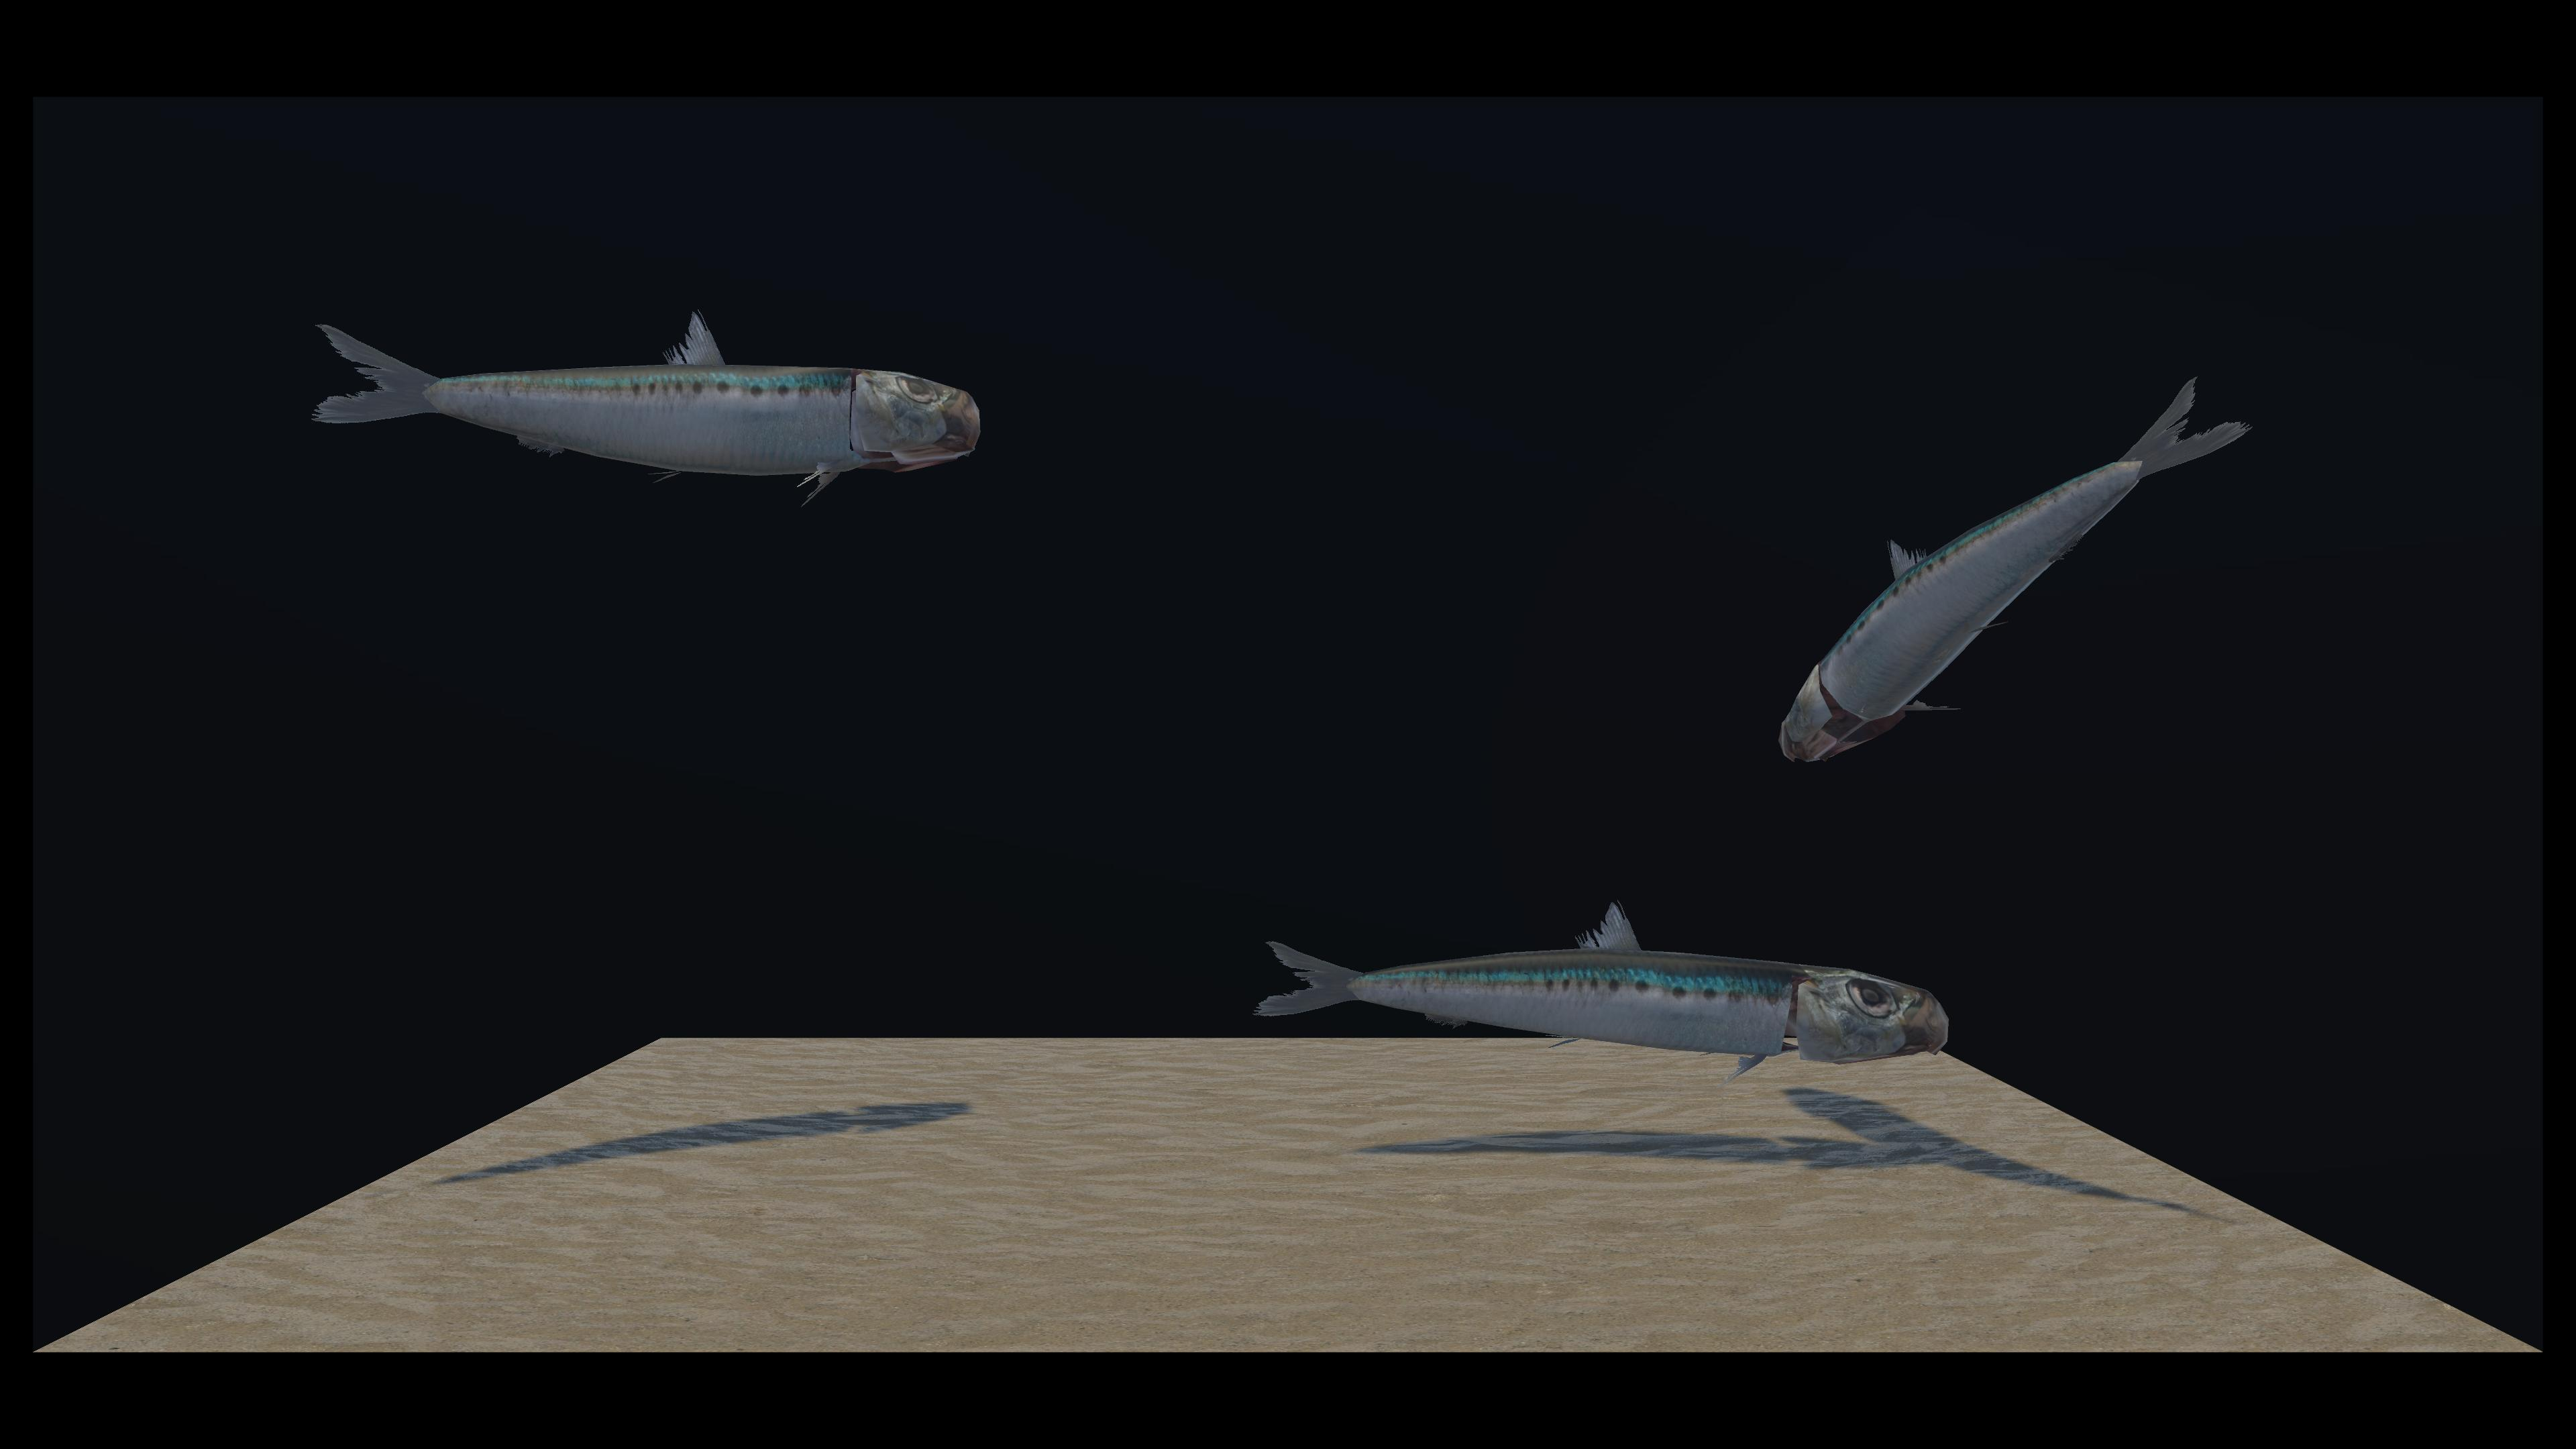Sardine_Front: (837, 281, 1923, 1097), (692, 375, 2247, 720), (322, 324, 961, 511)
